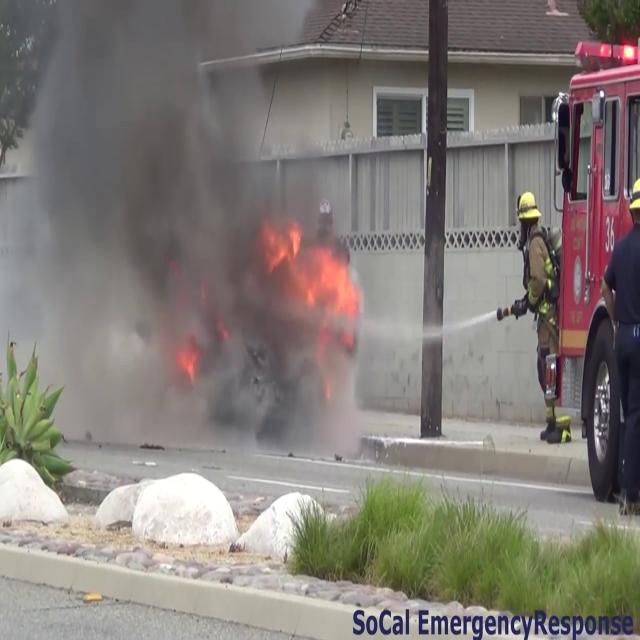Fire: (259, 194, 365, 344)
Smoke: (5, 0, 300, 444)
